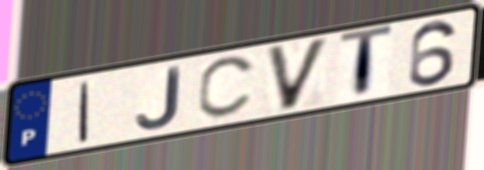6: (406, 17, 459, 89)
C: (194, 53, 260, 122)
I: (76, 79, 94, 144)
J: (134, 63, 183, 131)
T: (336, 22, 396, 102)
V: (263, 34, 333, 114)
